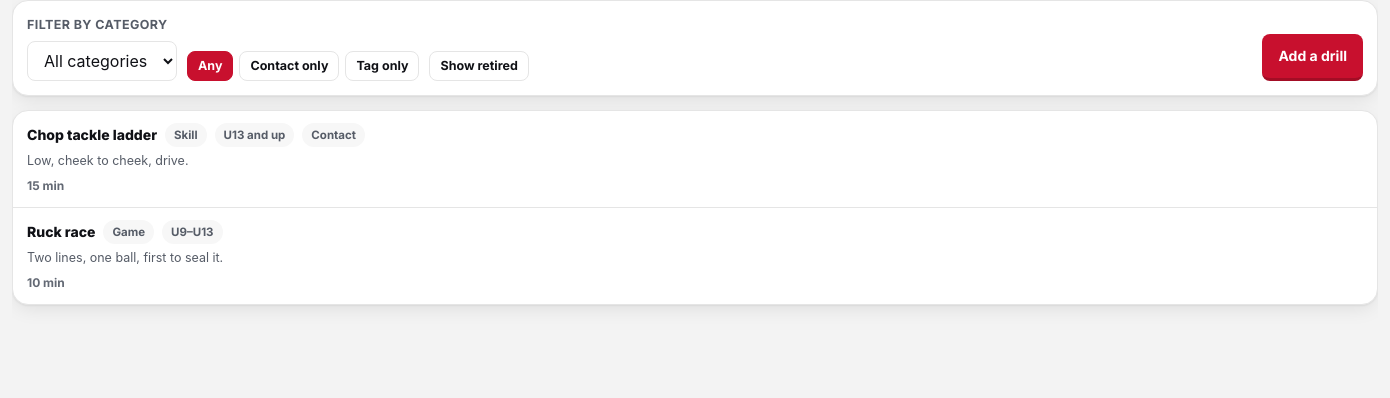
Scenario: TrainingLibrary › re-fetches with includeRetired when Show retired is switched on
Check: the button with test id "drill-drill-1" is shown, box 13,208 -> 1377,304
Click the switch labelled "Show retired" at (479, 66), box 430,51 -> 529,81
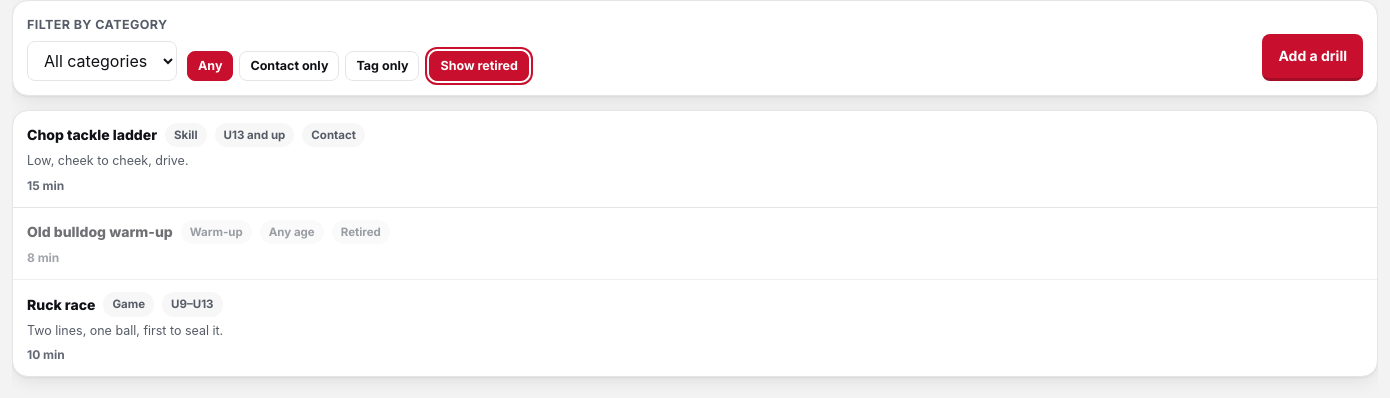
Check: the button with test id "drill-drill-3" is shown, box 13,208 -> 1377,280
